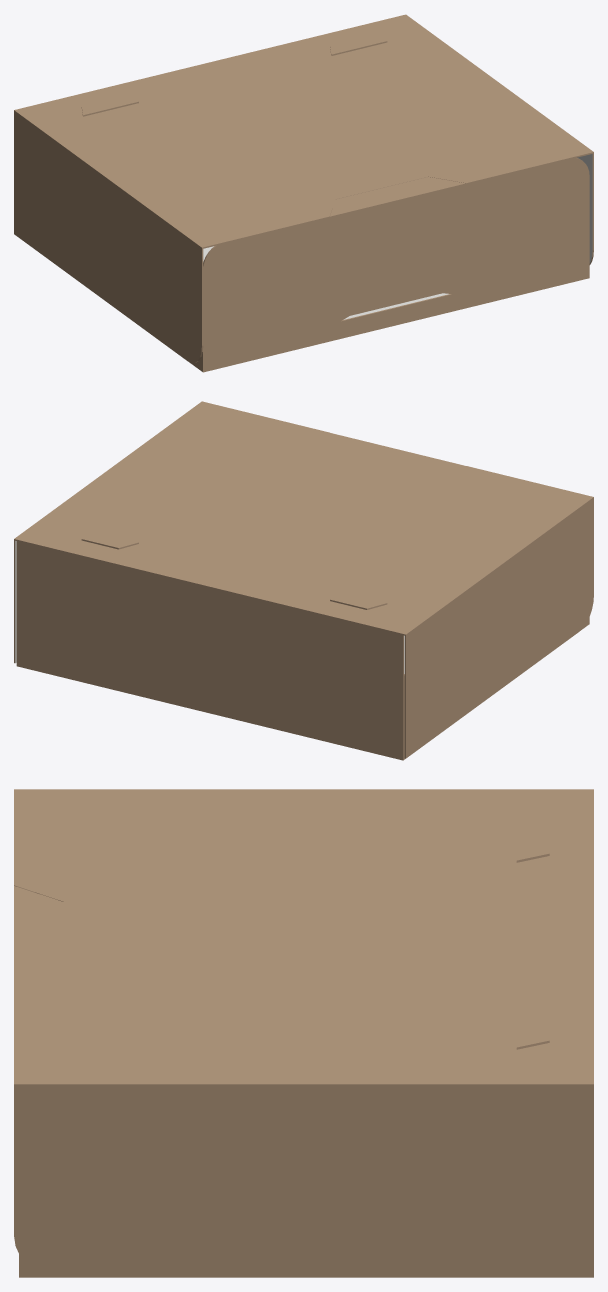
File: preroll-slims-gift-closed.glb
3 views of the same model, one above another, from view 1: azimuth 30°, elevation 25°; view 2: azimuth 150°, elevation 25°; view 3: azimuth 270°, elevation 25° (orthographic). The views are drawn at different scales.
Parts seen in each view (by area): view 1: sgift_lid, sgift_front, sgift_ear-1, sgift_locktab, sgift_base, sgift_ear1, sgift_tab-1, sgift_tab1; view 2: sgift_lid, sgift_back, sgift_ear-1, sgift_locktab, sgift_ear1, sgift_tab1, sgift_tab-1; view 3: sgift_lid, sgift_ear1, sgift_locktab, sgift_base, sgift_tab-1, sgift_tab1, sgift_ear-1.
Boxes of the visible parts, left/top/right/bottom form: sgift_lid: left=15, top=14, right=593, bottom=248; sgift_front: left=202, top=158, right=589, bottom=371; sgift_ear-1: left=14, top=110, right=203, bottom=362; sgift_locktab: left=329, top=177, right=466, bottom=217; sgift_base: left=191, top=246, right=589, bottom=372; sgift_ear1: left=405, top=15, right=593, bottom=264; sgift_tab-1: left=81, top=96, right=138, bottom=116; sgift_tab1: left=330, top=35, right=387, bottom=55; sgift_lid: left=14, top=401, right=593, bottom=635; sgift_back: left=16, top=541, right=403, bottom=760; sgift_ear-1: left=404, top=496, right=593, bottom=758; sgift_locktab: left=330, top=433, right=464, bottom=472; sgift_ear1: left=14, top=401, right=202, bottom=663; sgift_tab1: left=81, top=529, right=138, bottom=549; sgift_tab-1: left=330, top=589, right=387, bottom=609; sgift_lid: left=14, top=789, right=593, bottom=1086; sgift_ear1: left=14, top=1083, right=593, bottom=1275; sgift_locktab: left=14, top=886, right=63, bottom=987; sgift_base: left=19, top=1275, right=593, bottom=1277; sgift_tab-1: left=516, top=818, right=549, bottom=862; sgift_tab1: left=516, top=1005, right=549, bottom=1049; sgift_ear-1: left=14, top=789, right=593, bottom=790.
Size of the model in its own units: 0.1263 by 0.0398 by 0.1049.
